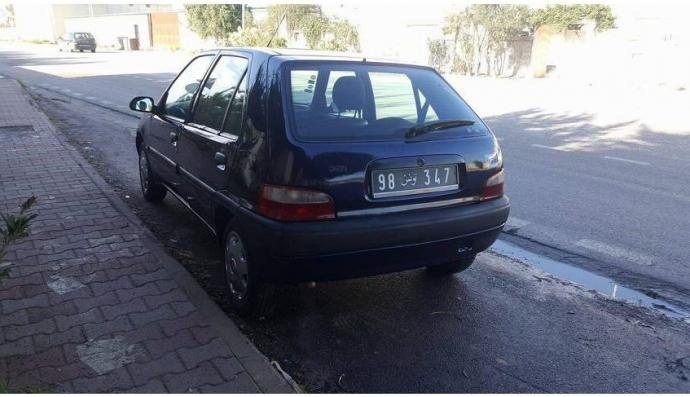LP: (367, 165, 472, 195)
